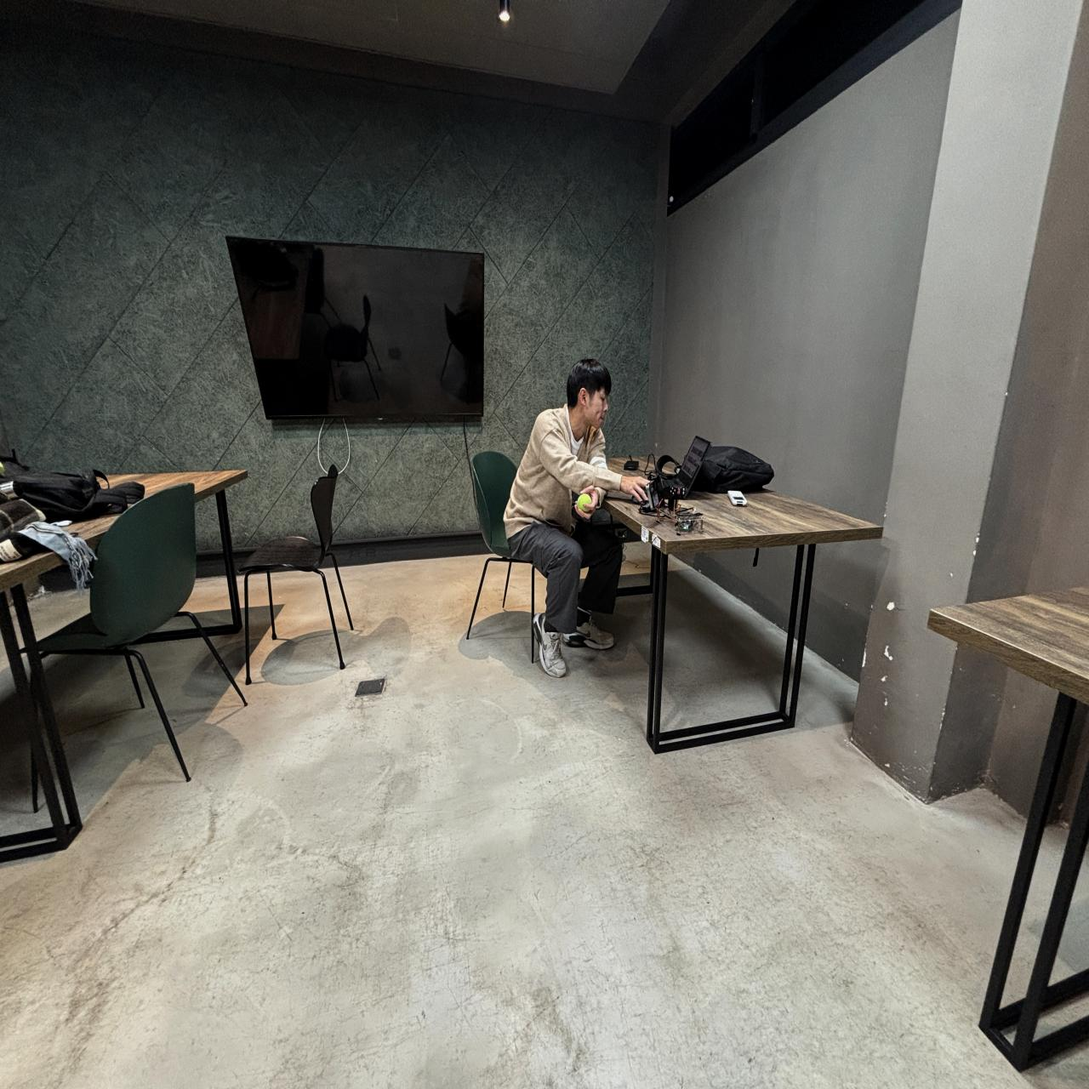person: (505, 360, 646, 676)
tennisball: (577, 493, 594, 513)
